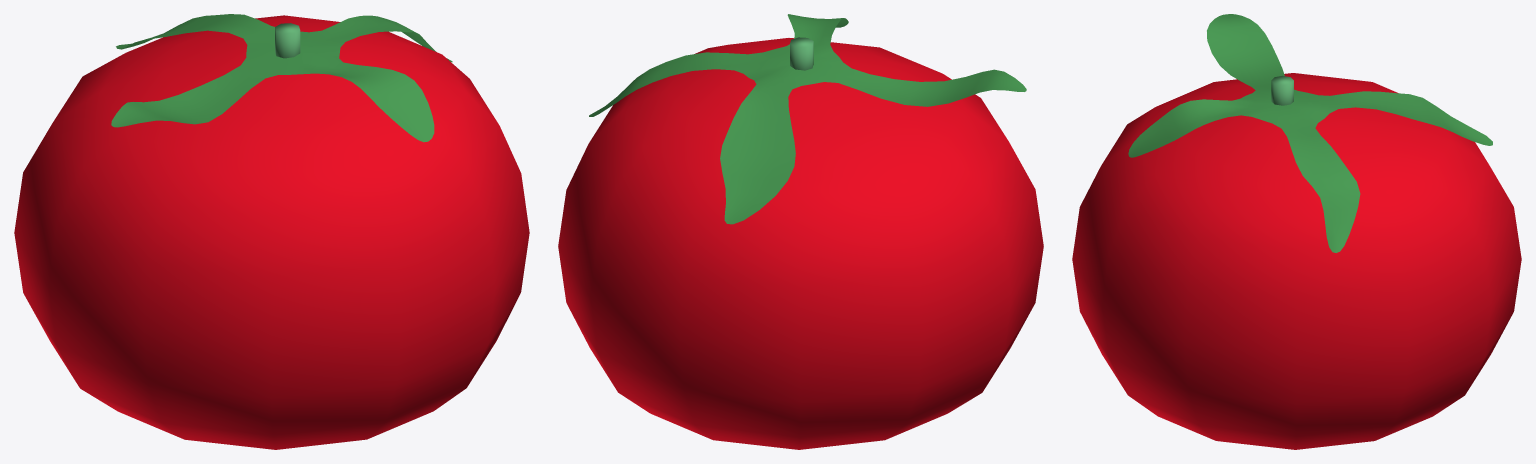
The model's file is tomato_tier1.glb.
3 views of the same model, side by side, from view 1: azimuth 30°, elevation 25°; view 2: azimuth 150°, elevation 25°; view 3: azimuth 270°, elevation 25° (orthographic). The views are drawn at different scales.
Parts seen in each view (by area): view 1: Sphere, Sphere.002, Cylinder; view 2: Sphere, Sphere.002, Cylinder; view 3: Sphere, Sphere.002, Cylinder.
Boxes of the visible parts, x1,y1,x2,y2 form: Sphere: [14, 15, 529, 449]; Sphere.002: [111, 14, 452, 142]; Cylinder: [275, 23, 300, 58]; Sphere: [558, 38, 1043, 449]; Sphere.002: [589, 14, 1026, 224]; Cylinder: [790, 37, 813, 70]; Sphere: [1072, 73, 1521, 449]; Sphere.002: [1128, 14, 1492, 252]; Cylinder: [1271, 75, 1293, 105].
Size of the model in its own units: 2 by 1.67 by 2.
